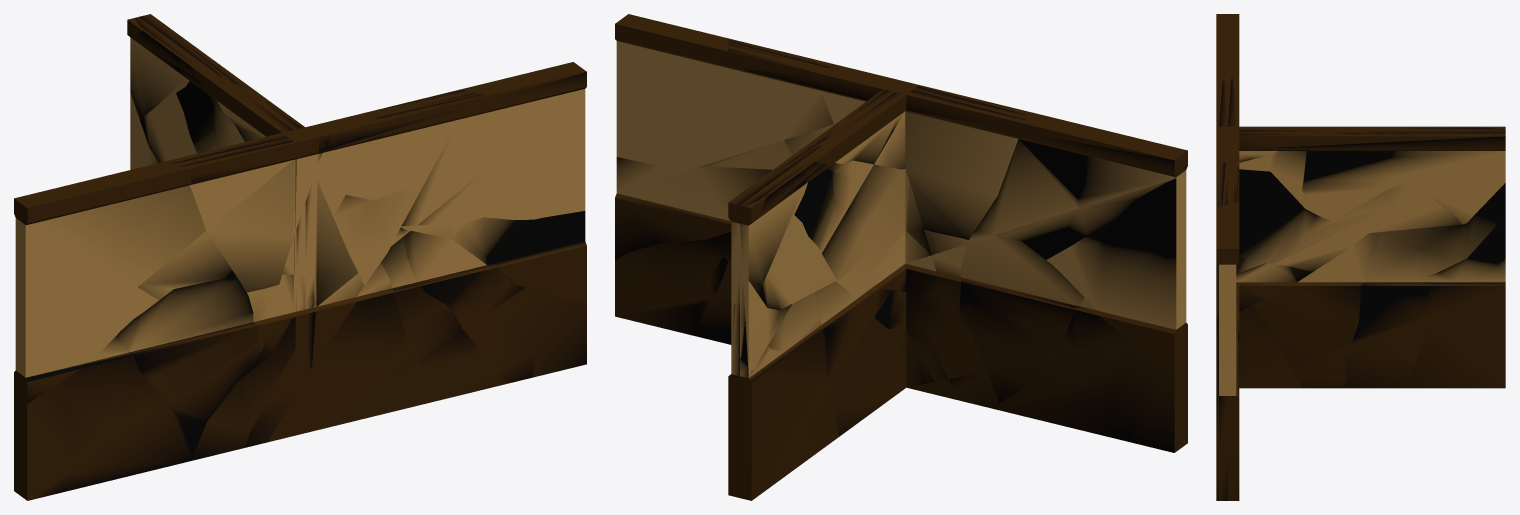
File: Classic_Wall_Joint_snaps001.fbx
The picture shows the model from 3 angles, left to right: view 1: azimuth 30°, elevation 25°; view 2: azimuth 150°, elevation 25°; view 3: azimuth 270°, elevation 25°; orthographic projection. The views are drawn at different scales.
Parts seen in each view (by area): view 1: Classic_Wall_Joint_snaps001_frag_024, Classic_Wall_Joint_snaps001_frag_005, Classic_Wall_Joint_snaps001_frag_017, Classic_Wall_Joint_snaps001_frag_041, Classic_Wall_Joint_snaps001_frag_032, Classic_Wall_Joint_snaps001_frag_026, Classic_Wall_Joint_snaps001_frag_033, Classic_Wall_Joint_snaps001_frag_037, Classic_Wall_Joint_snaps001_frag_020, Classic_Wall_Joint_snaps001_frag_011, Classic_Wall_Joint_snaps001_frag_027, Classic_Wall_Joint_snaps001_frag_016 (+23 smaller); view 2: Classic_Wall_Joint_snaps001_frag_005, Classic_Wall_Joint_snaps001_frag_024, Classic_Wall_Joint_snaps001_frag_026, Classic_Wall_Joint_snaps001_frag_017, Classic_Wall_Joint_snaps001_frag_032, Classic_Wall_Joint_snaps001_frag_020, Classic_Wall_Joint_snaps001_frag_038, Classic_Wall_Joint_snaps001_frag_010, Classic_Wall_Joint_snaps001_frag_041, Classic_Wall_Joint_snaps001_frag_016, Classic_Wall_Joint_snaps001_frag_025, Classic_Wall_Joint_snaps001_frag_037 (+24 smaller); view 3: Classic_Wall_Joint_snaps001_frag_038, Classic_Wall_Joint_snaps001_frag_018, Classic_Wall_Joint_snaps001_frag_019, Classic_Wall_Joint_snaps001_frag_039, Classic_Wall_Joint_snaps001_frag_007, Classic_Wall_Joint_snaps001_frag_023, Classic_Wall_Joint_snaps001_frag_022, Classic_Wall_Joint_snaps001_frag_008, Classic_Wall_Joint_snaps001_frag_044, Classic_Wall_Joint_snaps001_frag_011, Classic_Wall_Joint_snaps001_frag_024, Classic_Wall_Joint_snaps001_frag_045 (+11 smaller).
Boxes of the visible parts, x1,y1,x2,y2 form: Classic_Wall_Joint_snaps001_frag_024: [461, 62, 586, 219]; Classic_Wall_Joint_snaps001_frag_005: [166, 133, 328, 292]; Classic_Wall_Joint_snaps001_frag_017: [104, 161, 232, 300]; Classic_Wall_Joint_snaps001_frag_041: [116, 271, 257, 383]; Classic_Wall_Joint_snaps001_frag_032: [14, 336, 136, 500]; Classic_Wall_Joint_snaps001_frag_026: [14, 295, 158, 404]; Classic_Wall_Joint_snaps001_frag_033: [55, 364, 200, 493]; Classic_Wall_Joint_snaps001_frag_037: [346, 89, 486, 199]; Classic_Wall_Joint_snaps001_frag_020: [452, 211, 586, 306]; Classic_Wall_Joint_snaps001_frag_011: [268, 295, 384, 442]; Classic_Wall_Joint_snaps001_frag_027: [15, 219, 150, 312]; Classic_Wall_Joint_snaps001_frag_016: [14, 176, 143, 290]; Classic_Wall_Joint_snaps001_frag_005: [886, 79, 1026, 239]; Classic_Wall_Joint_snaps001_frag_024: [615, 14, 738, 166]; Classic_Wall_Joint_snaps001_frag_026: [1046, 242, 1187, 363]; Classic_Wall_Joint_snaps001_frag_017: [974, 111, 1093, 259]; Classic_Wall_Joint_snaps001_frag_032: [1065, 298, 1187, 452]; Classic_Wall_Joint_snaps001_frag_020: [615, 157, 755, 259]; Classic_Wall_Joint_snaps001_frag_038: [728, 347, 809, 500]; Classic_Wall_Joint_snaps001_frag_010: [615, 231, 731, 336]; Classic_Wall_Joint_snaps001_frag_041: [960, 232, 1084, 328]; Classic_Wall_Joint_snaps001_frag_016: [1058, 127, 1187, 252]; Classic_Wall_Joint_snaps001_frag_025: [685, 64, 792, 169]; Classic_Wall_Joint_snaps001_frag_037: [728, 38, 839, 150]; Classic_Wall_Joint_snaps001_frag_038: [1407, 258, 1505, 388]; Classic_Wall_Joint_snaps001_frag_018: [1372, 126, 1505, 224]; Classic_Wall_Joint_snaps001_frag_019: [1302, 126, 1417, 221]; Classic_Wall_Joint_snaps001_frag_039: [1344, 287, 1429, 388]; Classic_Wall_Joint_snaps001_frag_007: [1239, 169, 1317, 265]; Classic_Wall_Joint_snaps001_frag_023: [1269, 302, 1360, 388]; Classic_Wall_Joint_snaps001_frag_022: [1253, 232, 1379, 329]; Classic_Wall_Joint_snaps001_frag_008: [1282, 181, 1411, 271]; Classic_Wall_Joint_snaps001_frag_044: [1377, 183, 1505, 263]; Classic_Wall_Joint_snaps001_frag_011: [1216, 296, 1302, 388]; Classic_Wall_Joint_snaps001_frag_024: [1216, 202, 1239, 369]; Classic_Wall_Joint_snaps001_frag_045: [1359, 242, 1455, 318].
Bounding box in the file's own units: 236 × 118 × 123.
